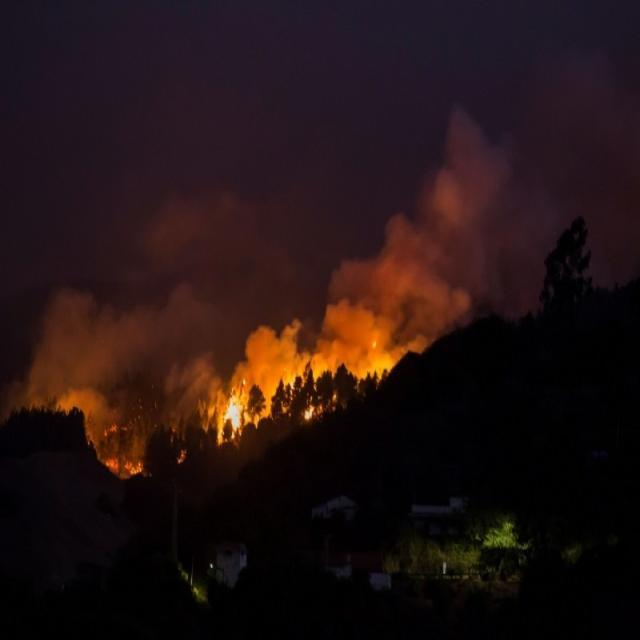Fire: (214, 377, 260, 449), (103, 456, 142, 476), (302, 401, 316, 423)
Smoke: (1, 104, 640, 464)
